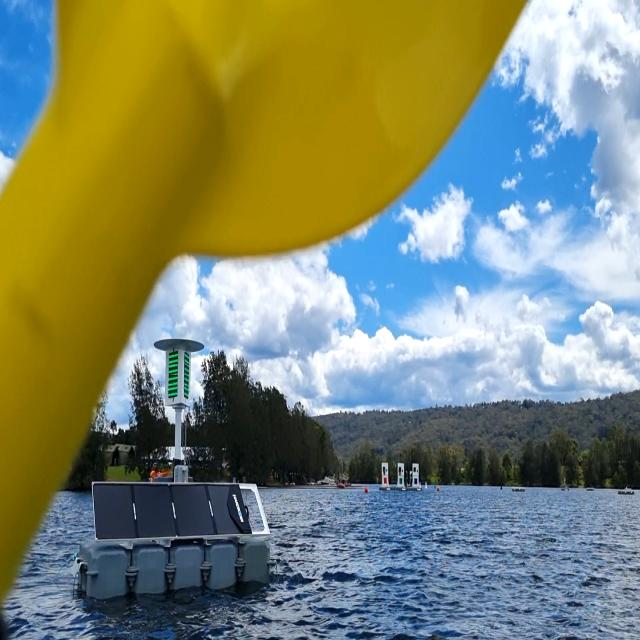led: (166, 354, 179, 401), (182, 348, 190, 402)
